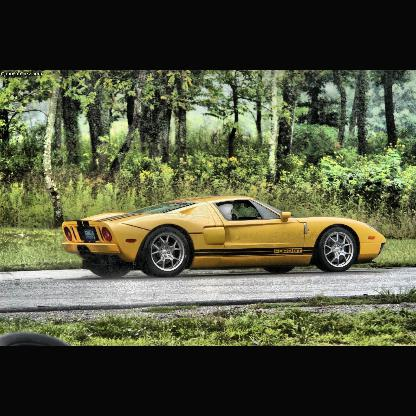Ford GT Coupe 2006: (64, 197, 386, 278)
